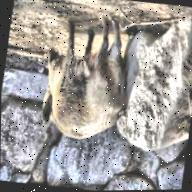boar: (14, 24, 141, 156)
